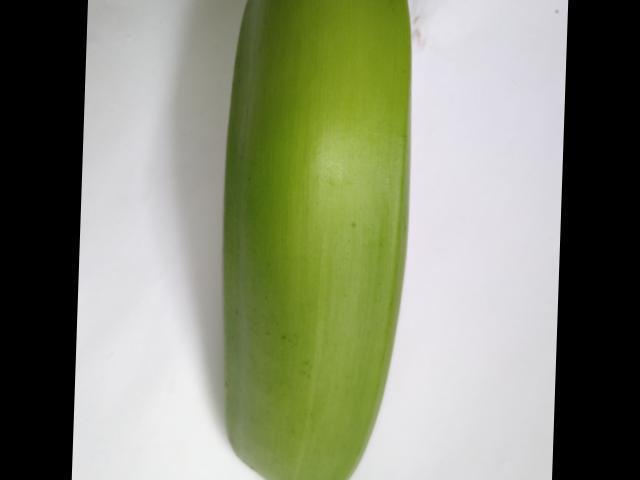freshunripe: (203, 0, 423, 479)
